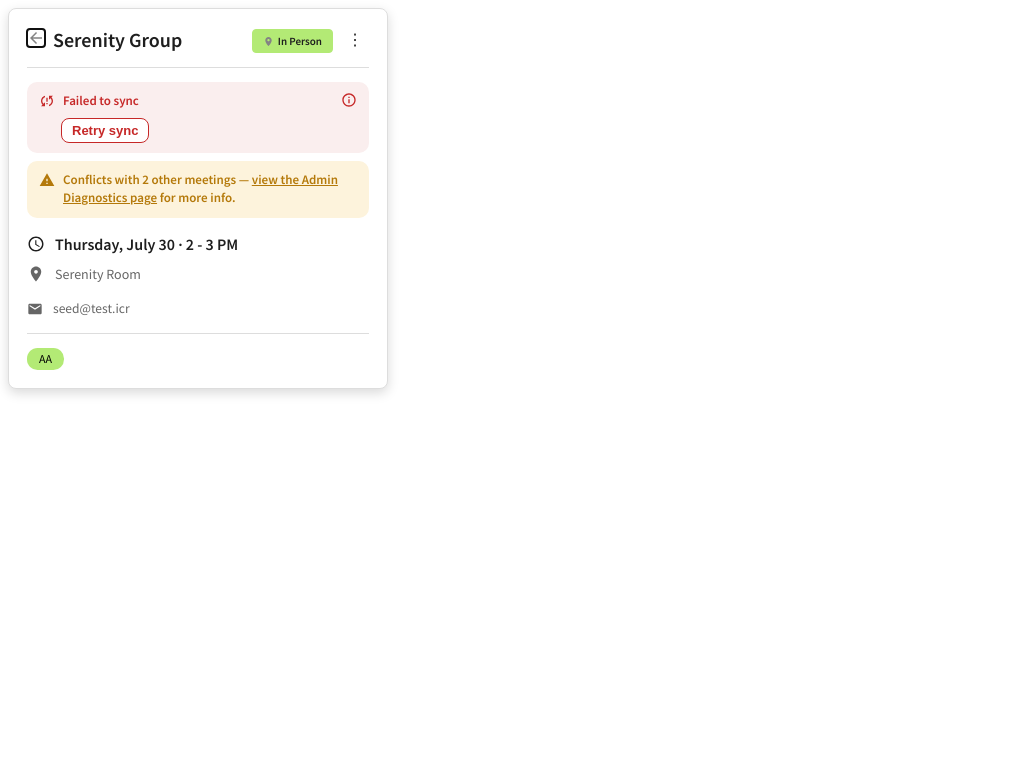
Scenario: ViewMeeting › status band admin gating › toggles the per-channel error details on the info button
This screenshot has width=1024, height=768.
Expected: the text "Insufficient permissions" is not shown
Click the button named "Show sync error details" at point(349, 100), box [341, 92, 357, 108]
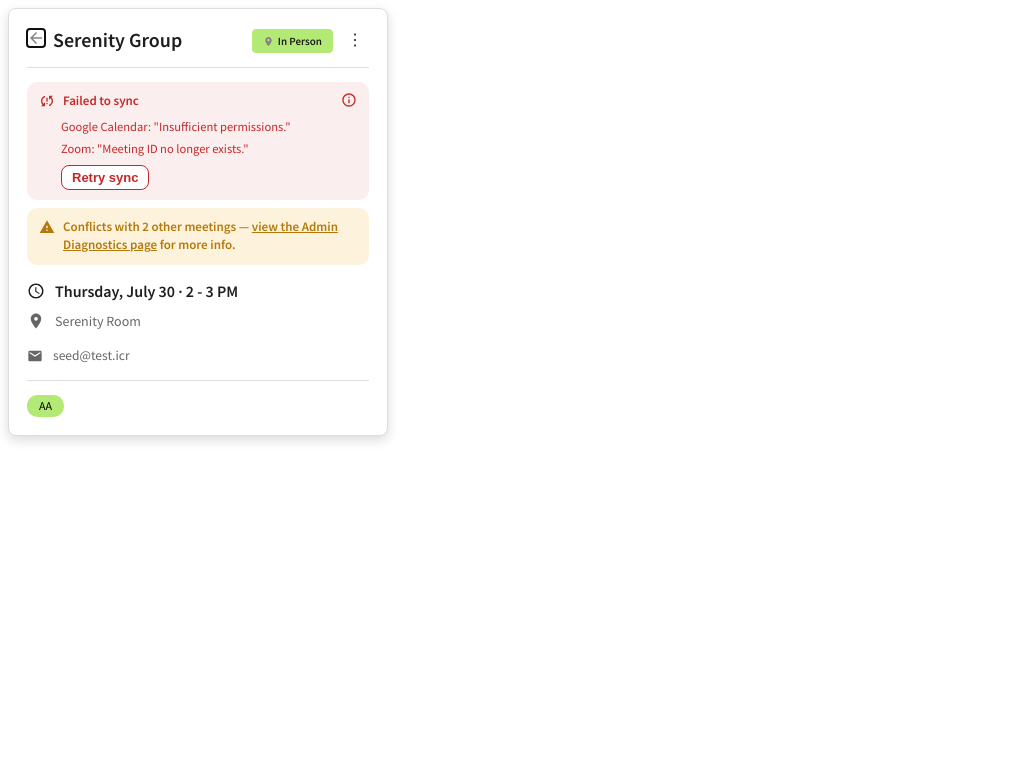
Now the text "Google Calendar: \"Insufficient permissions.\"" is shown, box [61, 119, 290, 134]
Now the text "Zoom: \"Meeting ID no longer exists.\"" is shown, box [61, 141, 248, 156]
